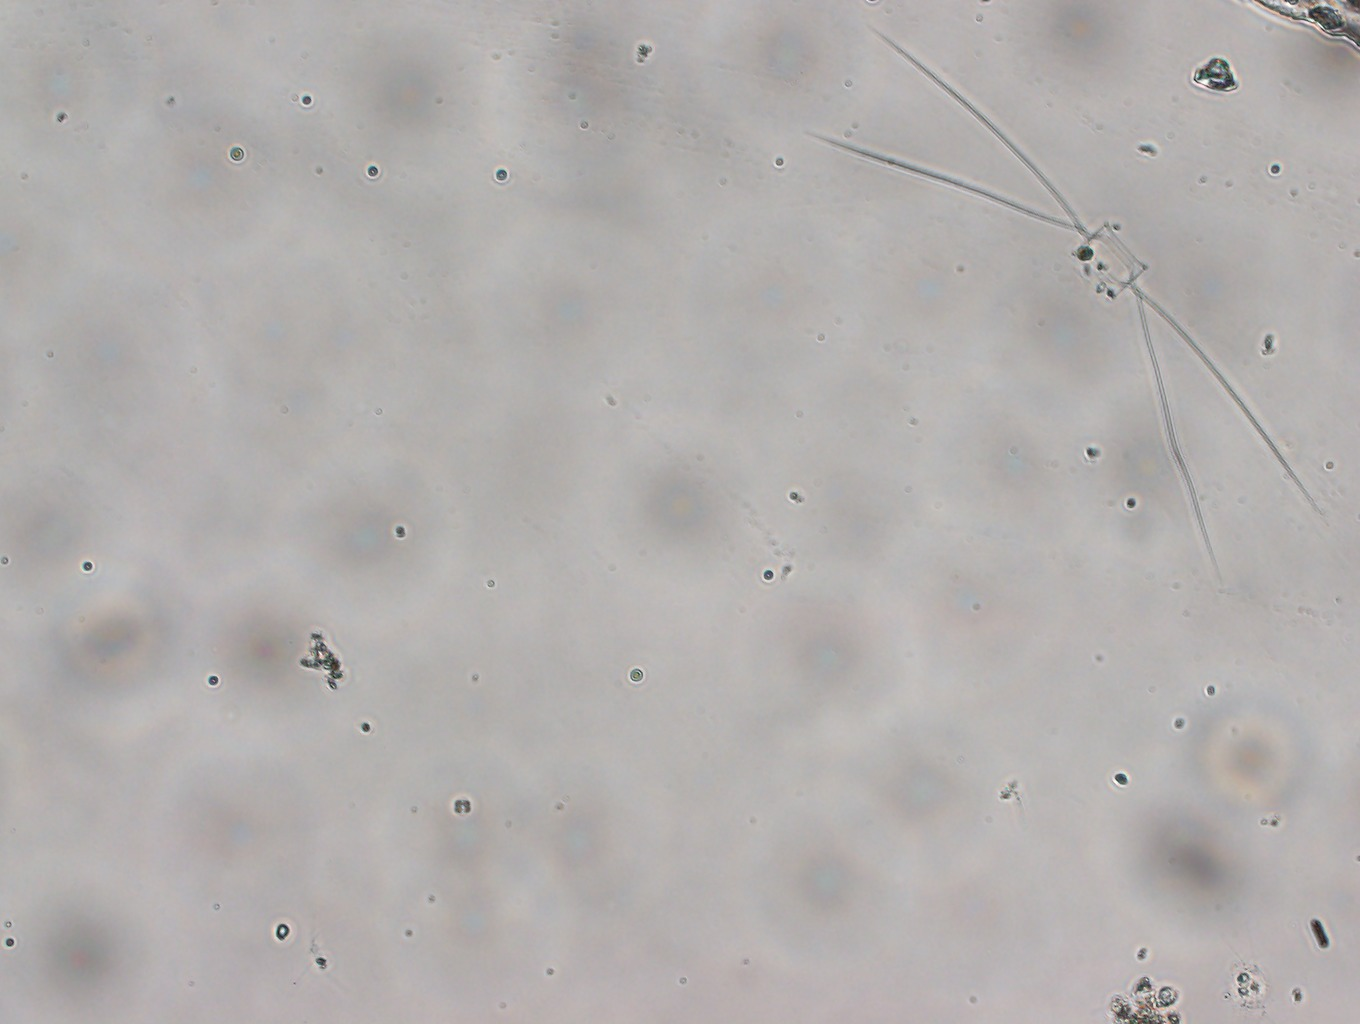chaetoceros: (808, 17, 1330, 584)
